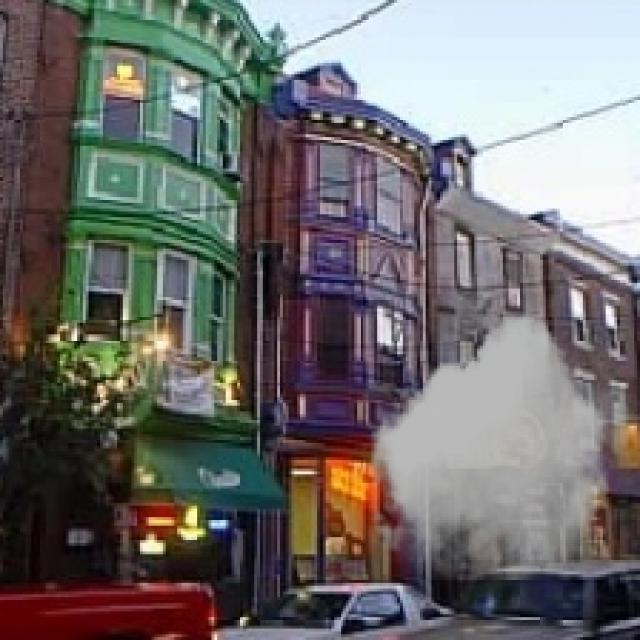Smoke: (366, 314, 638, 583)
